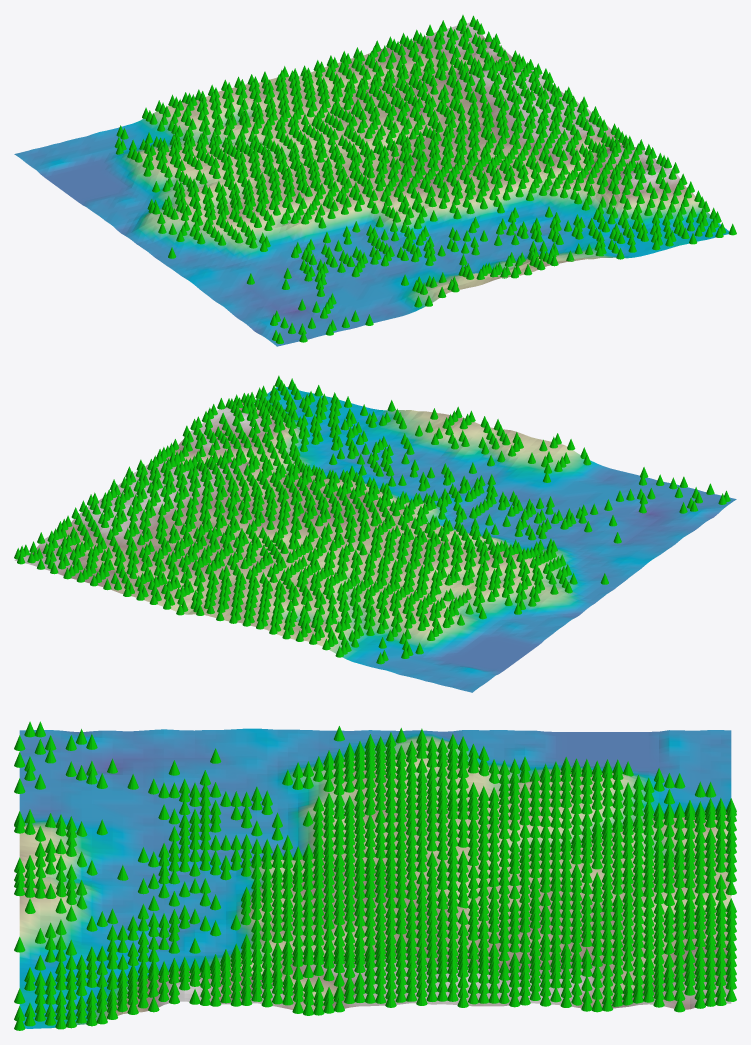
Rendered from 000958_with_tree.glb.
3 views of the same model, one above another, from view 1: azimuth 30°, elevation 25°; view 2: azimuth 150°, elevation 25°; view 3: azimuth 270°, elevation 25° (orthographic). The views are drawn at different scales.
Visible parts, largest first — view 1: trees, terrain; view 2: trees, terrain; view 3: trees, terrain.
Part boxes in pixels (x1,y1,x2,y2): trees: (114, 15, 736, 343); terrain: (14, 22, 729, 346); trees: (14, 375, 730, 664); terrain: (14, 387, 736, 692); trees: (14, 721, 736, 1030); terrain: (19, 728, 731, 1028).
Size of the model in its own units: 0.0187 by 0.00136 by 0.0189.
